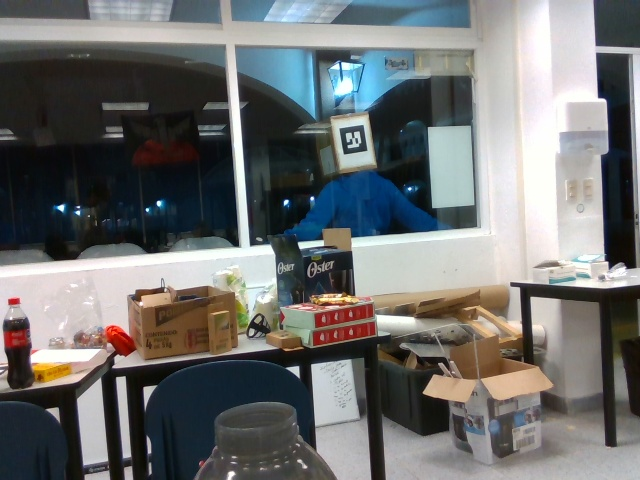ar4: (337, 125, 369, 156)
